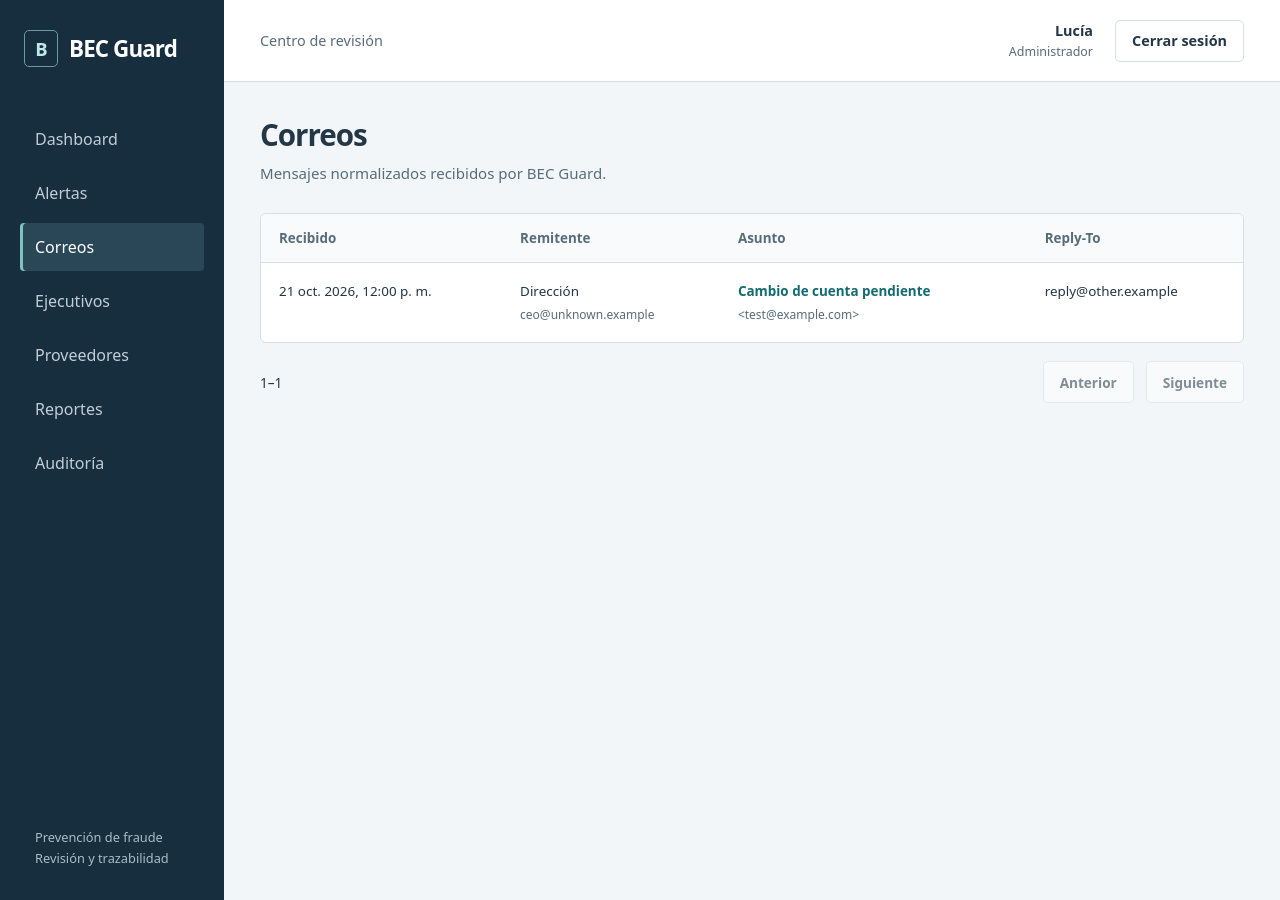
Test: email list links to safe detail
Click the link "Cambio de cuenta pendiente".
click(834, 291)  # box x1=738 y1=282 x2=930 y2=300
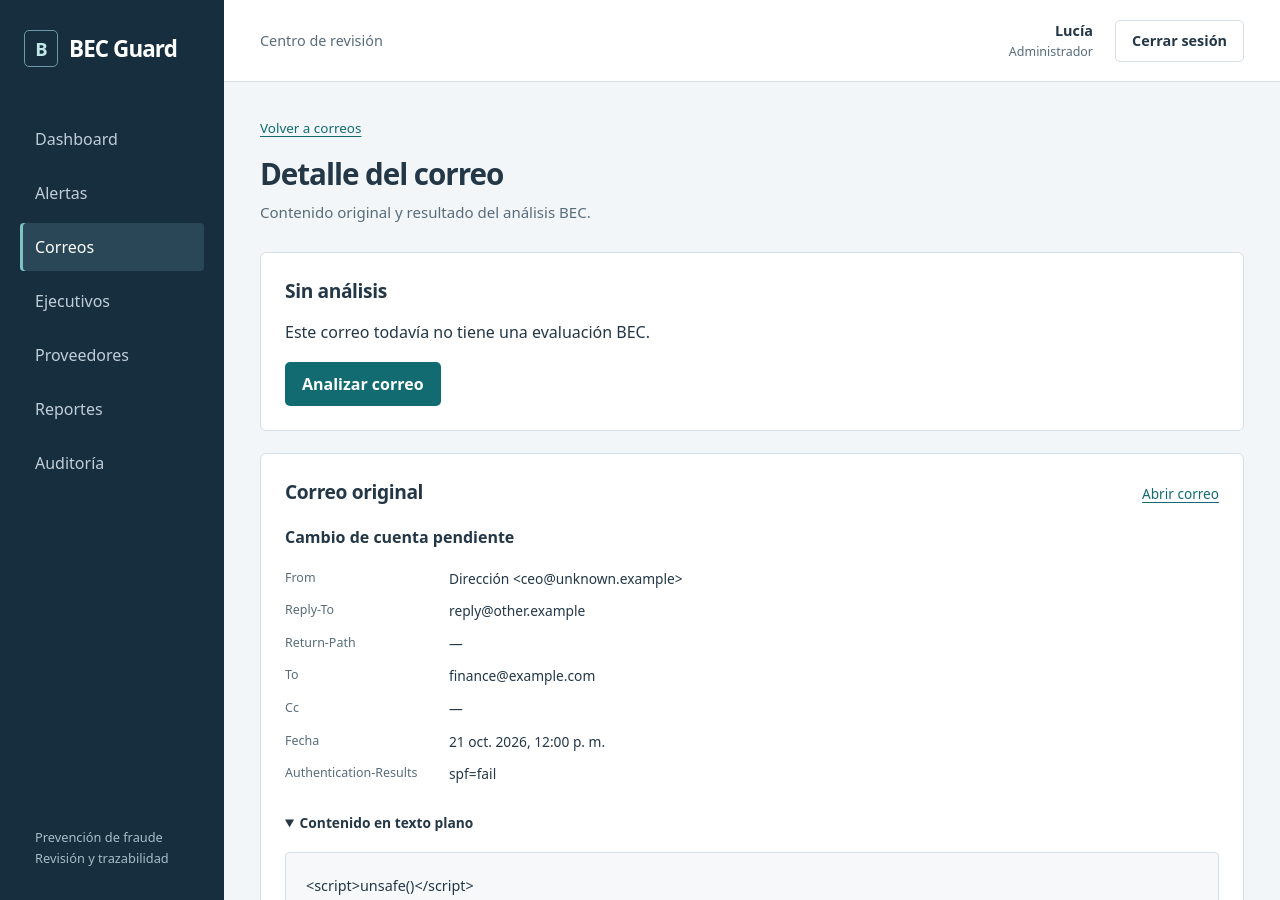
Check: the heading "Correo original" is shown, box x1=285 y1=478 x2=423 y2=505
